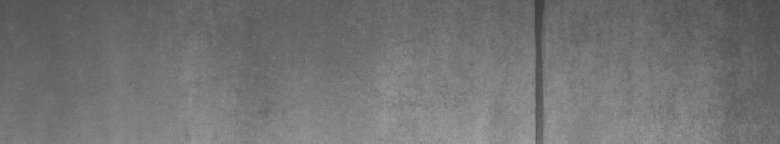hd: (528, 4, 551, 136)
